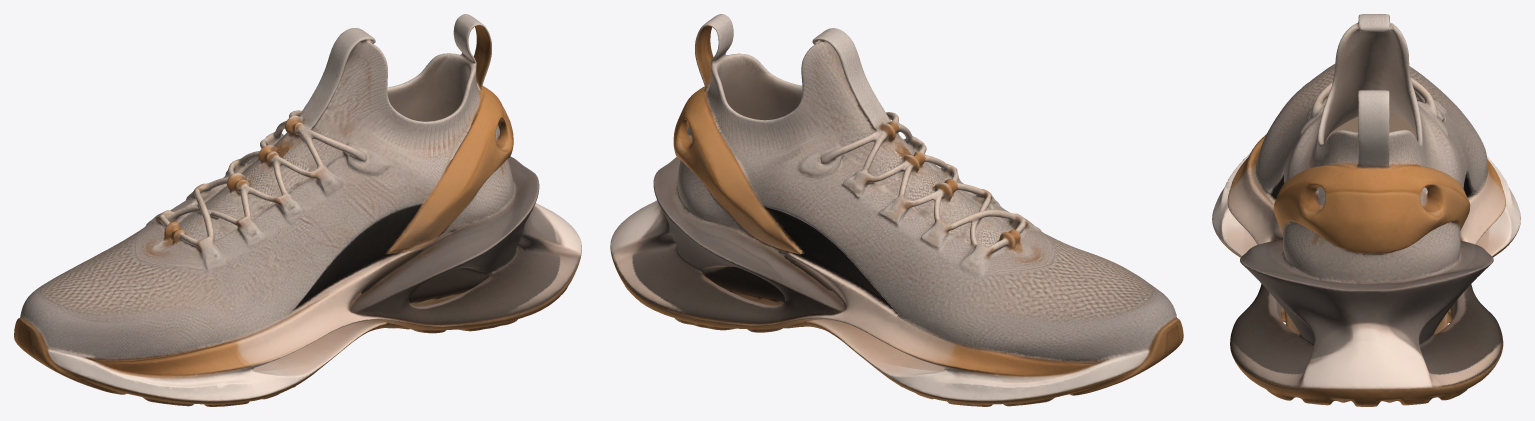
The model's file is noctorn-runner.glb.
The picture shows the model from 3 angles, left to right: view 1: azimuth 30°, elevation 25°; view 2: azimuth 150°, elevation 25°; view 3: azimuth 270°, elevation 25°; orthographic projection. The views are drawn at different scales.
Size of the model in its own units: 1.9 by 0.9443 by 0.8513.
Materials: 1 (1 with a texture image).
